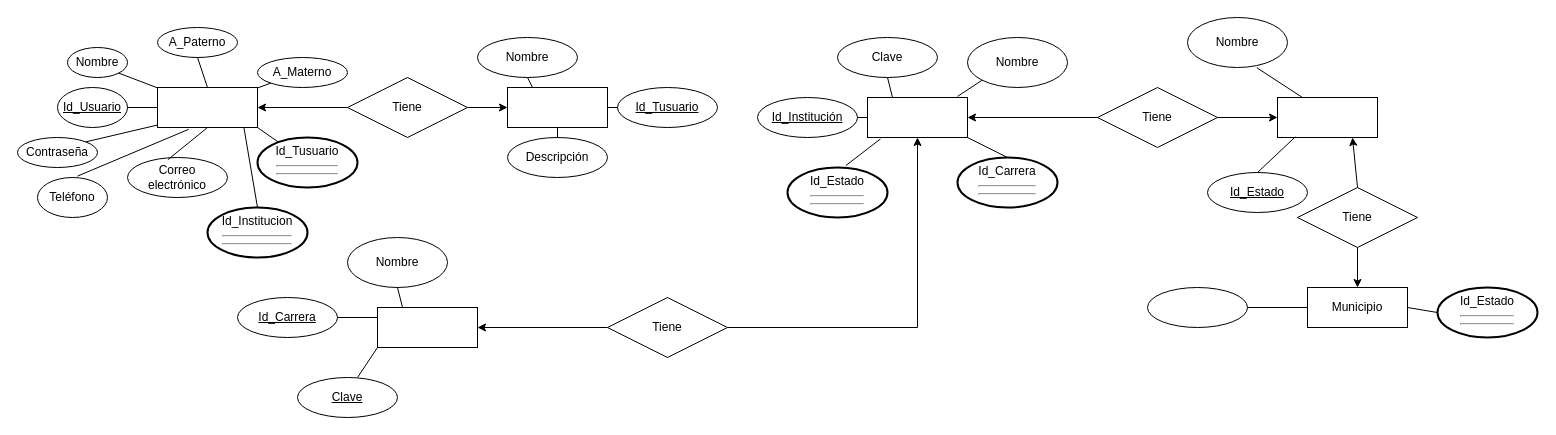
Some shapes in this 1556 by 435 pixel diagram are drawn without their labels. The centre of each missing label's shape, as x and y in pixels:
Carreras: [427,327]
Estado: [1327,117]
Id_Municipio: [1197,307]
Institución: [917,117]
Tusuario: [557,107]
Usuario: [207,107]
